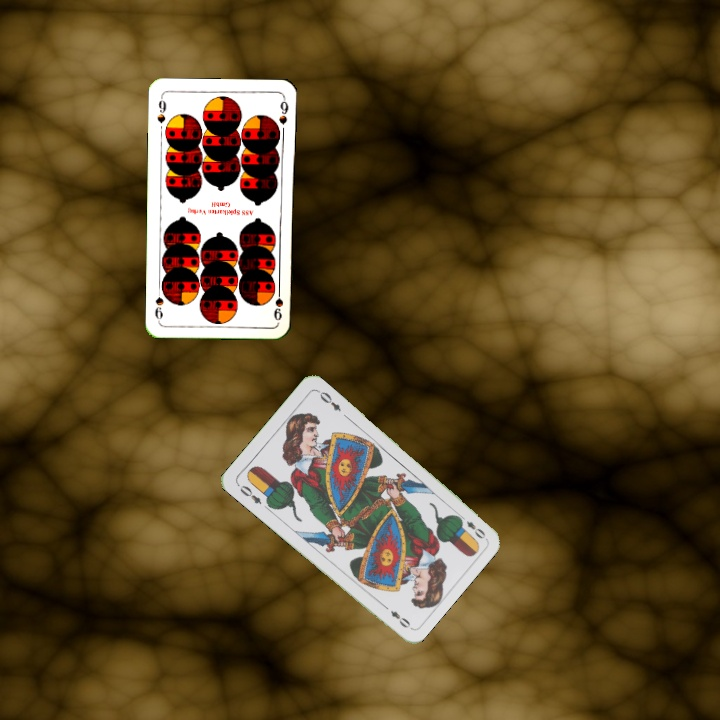EO: (453, 510, 488, 542), (233, 480, 264, 507)
S9: (270, 283, 286, 323), (153, 93, 169, 125)
